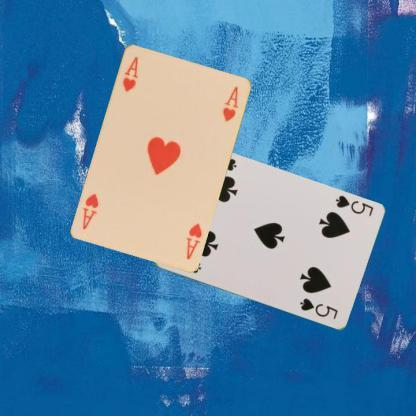5s: (332, 192, 375, 218)
Ah: (119, 53, 140, 92), (184, 220, 203, 261)
